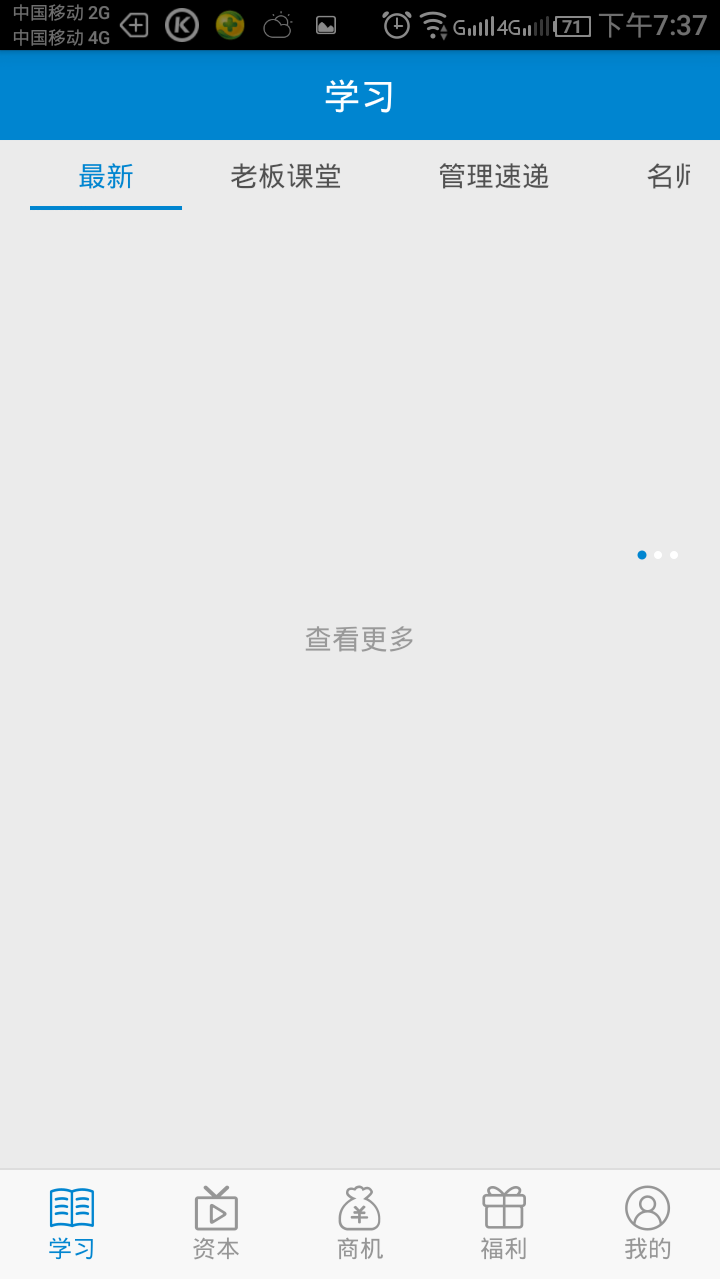nav: (9, 1164, 720, 1268)
